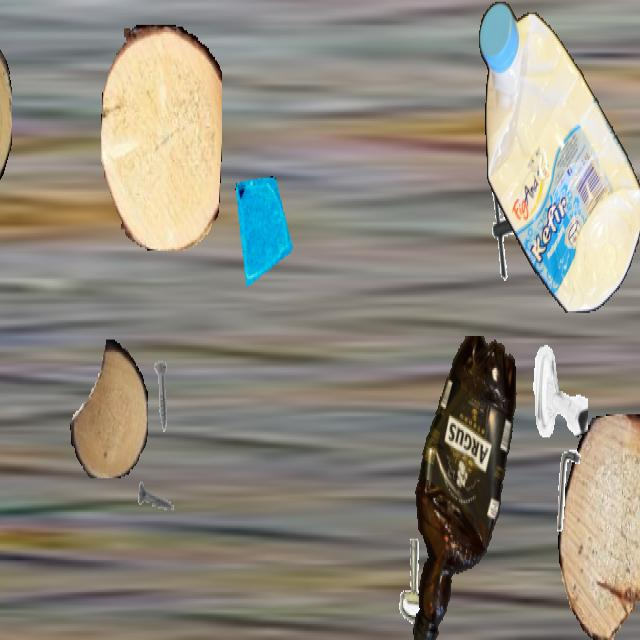glass: (232, 176, 296, 290)
metal: (481, 176, 541, 283), (530, 340, 588, 442), (389, 532, 445, 631), (543, 442, 597, 538), (141, 359, 183, 434), (137, 459, 179, 533)
plastic: (479, 2, 640, 311), (403, 336, 523, 638)
wood: (101, 25, 221, 249), (558, 414, 640, 638), (70, 340, 148, 478), (0, 41, 12, 204)
